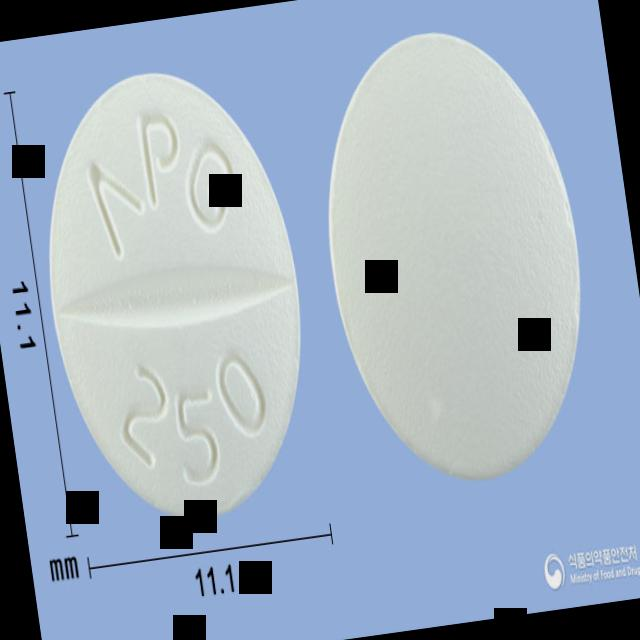Ciflo: (20, 51, 332, 542)
